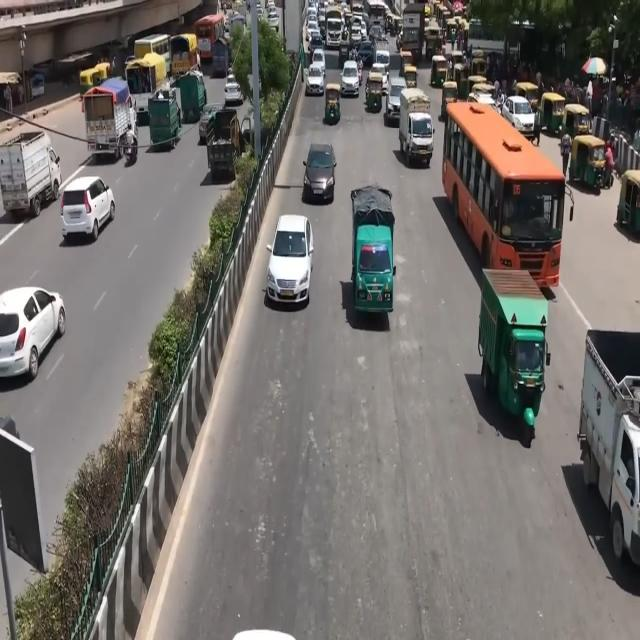auto: (478, 266, 550, 439), (569, 133, 607, 190), (80, 61, 112, 98), (365, 70, 386, 113), (324, 81, 342, 124), (441, 79, 458, 121), (431, 54, 449, 88), (402, 64, 418, 90)
